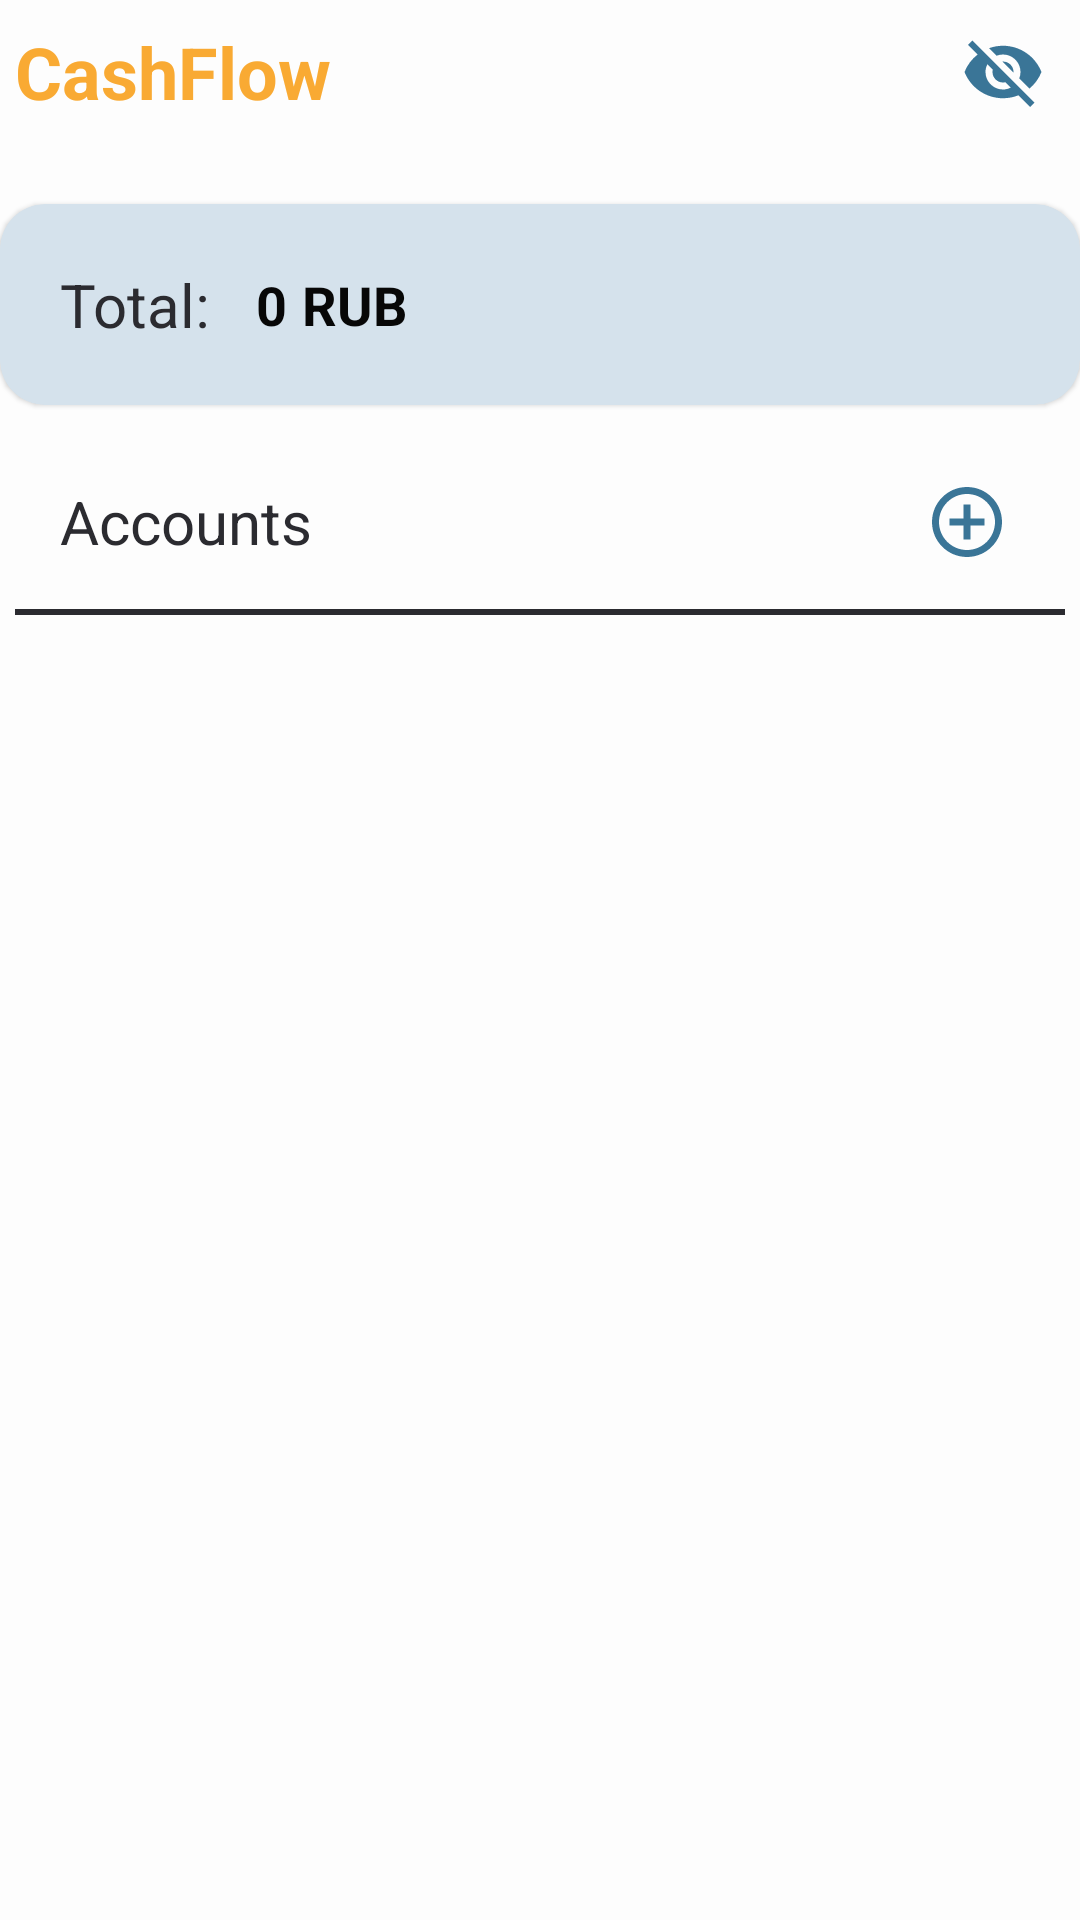

Icons on this 1080×1920 Android screen, each with its box as rect(x1, y1, x2, y2):
add: rect(932, 487, 1002, 557)
visibility off: rect(964, 40, 1042, 107)
